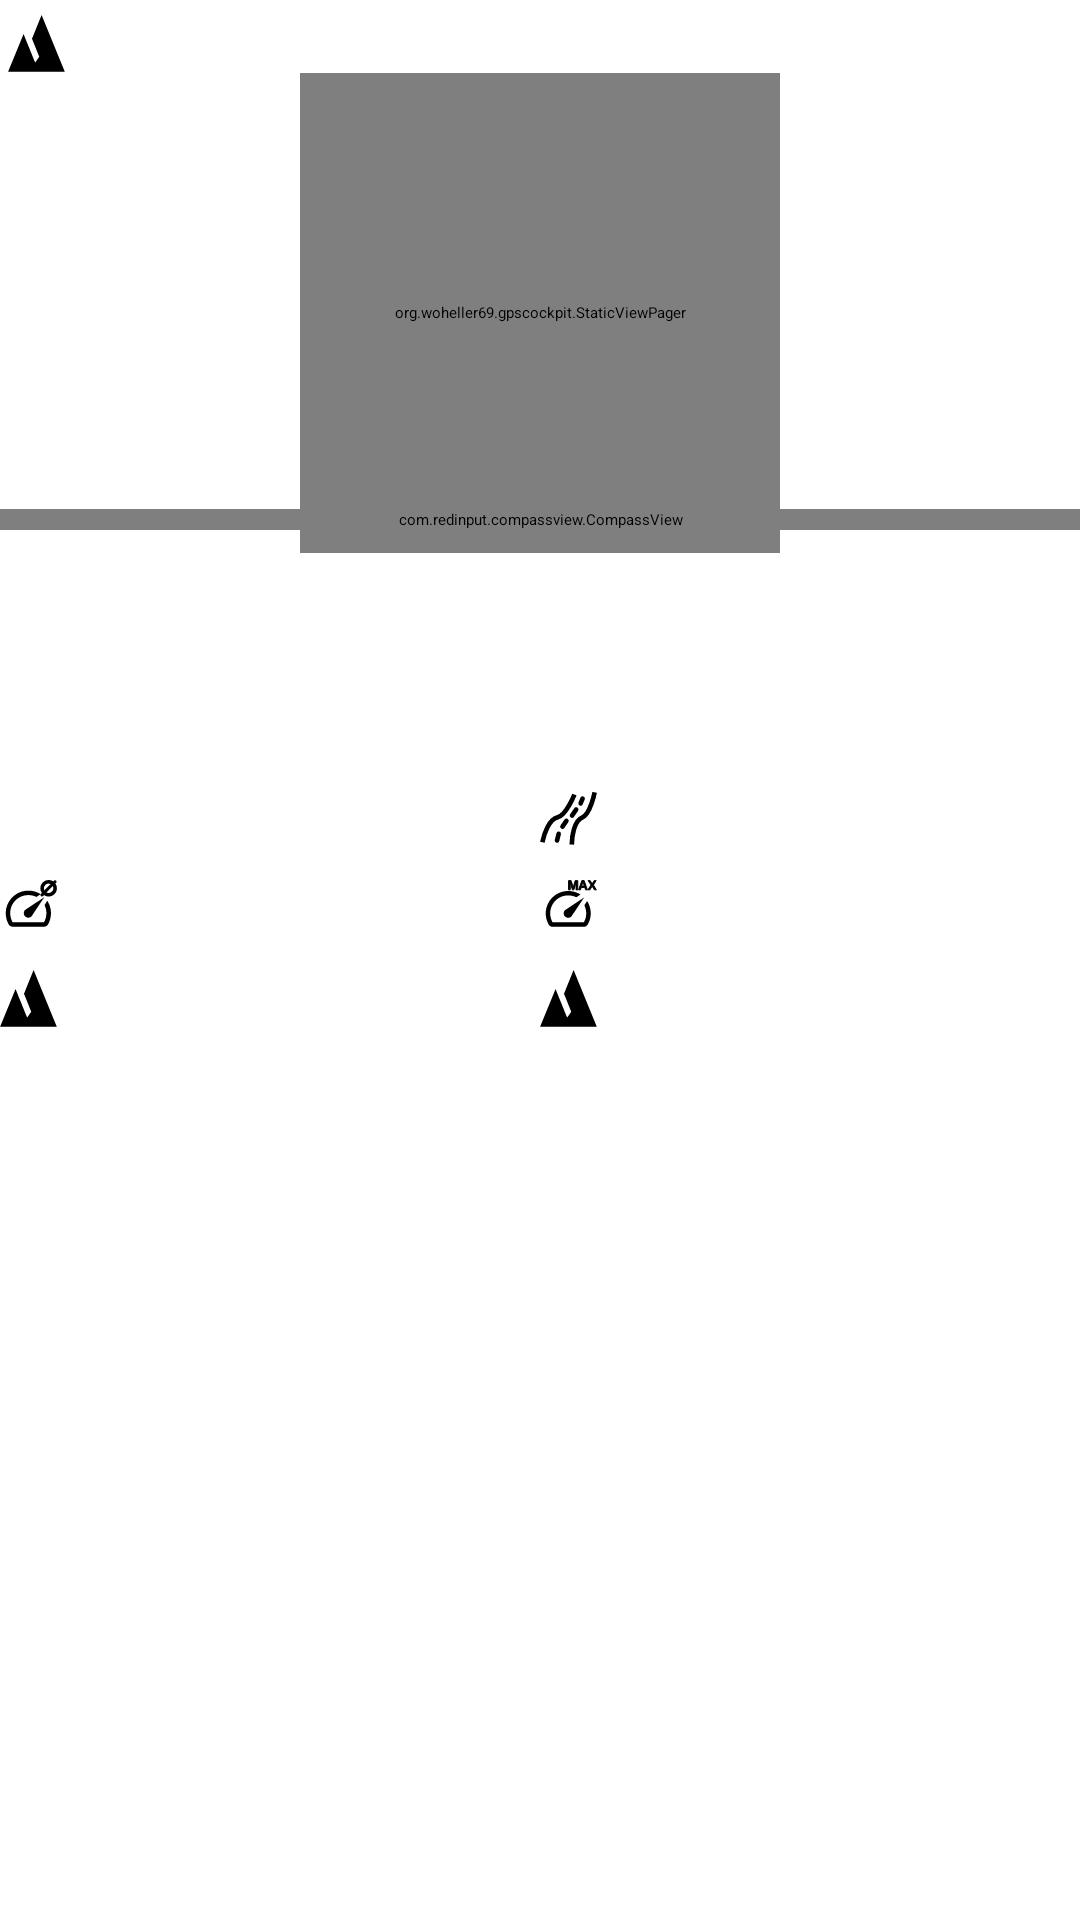

Point at icon controls on the screen. Image size 1080w x 1920h, points as [x,y].
distance: [568,818]
mountain: [36,43], [28,998], [568,998]
speed av: [31,903]
speed max: [571,903]
